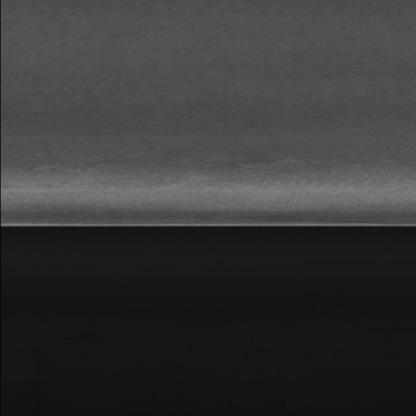silk_spot: (10, 141, 376, 193)
